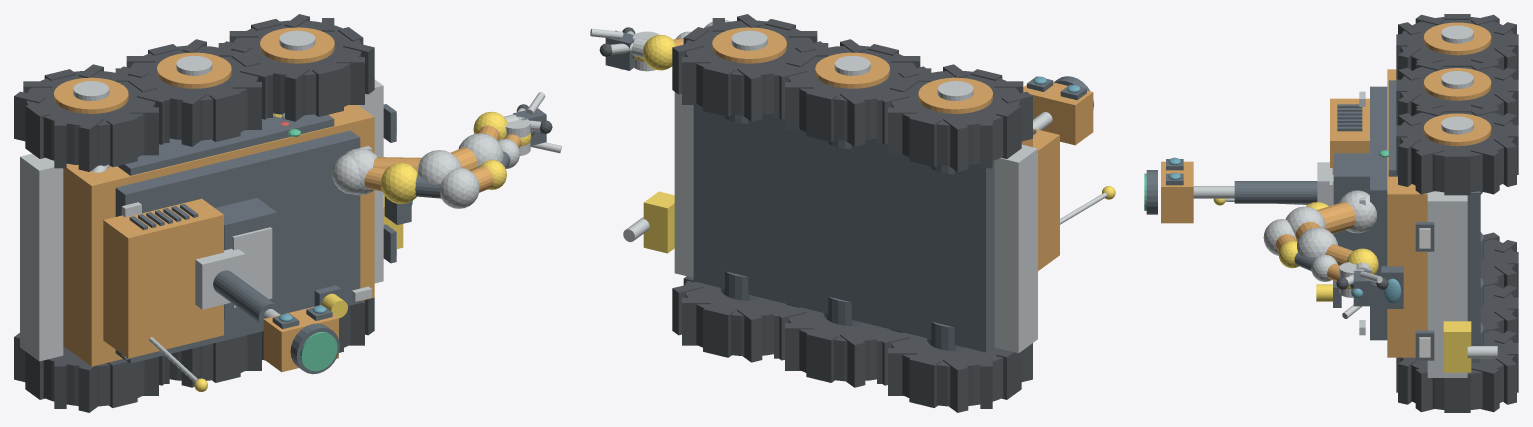
File: riis_rover_full_build.glb
The picture shows the model from 3 angles, left to right: view 1: azimuth 30°, elevation 25°; view 2: azimuth 150°, elevation 25°; view 3: azimuth 270°, elevation 25°; orthographic projection. The views are drawn at different scales.
Parts seen in each view (by area): view 1: Upper equipment deck, Rear battery enclosure, Main sealed armored chassis, Rear bumper, Left wheel 1 rubber tire, Left side armor panel, Left wheel 2 rubber tire, Left wheel 3 rubber tire, Compute module, Right wheel 1 rubber tire, Top access hatch, Pan tilt sensor head (+44 smaller); view 2: Lower impact skid plate, Rear bumper, Left wheel 1 rubber tire, Front bumper, Left wheel 3 rubber tire, Left wheel 2 rubber tire, Right wheel 1 rubber tire, Rear battery enclosure, Right wheel 2 rubber tire, Right wheel 3 rubber tire, Pan tilt sensor head, Front sensor bumper module (+37 smaller); view 3: Main sealed armored chassis, Front bumper, Upper equipment deck, Left wheel 3 rubber tire, Compute module, Lower impact skid plate, Right wheel 3 rubber tire, Sensor mast lower sleeve, Left wheel 1 rubber tire, Left wheel 2 rubber tire, Pan tilt sensor head, Rear battery enclosure (+37 smaller).
Boxes of the visible parts, x1,y1,x2,y2 form: Upper equipment deck: (115, 130, 360, 360); Rear battery enclosure: (103, 198, 223, 358); Main sealed armored chassis: (63, 105, 374, 366); Rear bumper: (20, 153, 63, 361); Left wheel 1 rubber tire: (26, 71, 155, 165); Left side armor panel: (117, 114, 334, 175); Left wheel 2 rubber tire: (129, 45, 258, 140); Left wheel 3 rubber tire: (232, 20, 361, 115); Compute module: (215, 198, 277, 320); Right wheel 1 rubber tire: (43, 346, 144, 406); Top access hatch: (232, 227, 272, 307); Pan tilt sensor head: (263, 305, 338, 372); Lower impact skid plate: (693, 105, 994, 352); Rear bumper: (994, 144, 1037, 353); Left wheel 1 rubber tire: (891, 71, 1020, 165); Front bumper: (674, 92, 693, 277); Left wheel 3 rubber tire: (685, 20, 814, 115); Left wheel 2 rubber tire: (788, 45, 917, 140); Right wheel 1 rubber tire: (891, 332, 1003, 406); Rear battery enclosure: (1033, 128, 1059, 270); Right wheel 2 rubber tire: (788, 307, 899, 381); Right wheel 3 rubber tire: (685, 280, 796, 355); Pan tilt sensor head: (1023, 82, 1093, 145); Front sensor bumper module: (643, 191, 674, 253); Main sealed armored chassis: (1387, 69, 1427, 357); Front bumper: (1427, 191, 1467, 377); Upper equipment deck: (1370, 86, 1387, 340); Left wheel 3 rubber tire: (1400, 108, 1514, 192); Compute module: (1333, 153, 1369, 250); Lower impact skid plate: (1467, 191, 1480, 362); Right wheel 3 rubber tire: (1400, 330, 1514, 409); Sensor mast lower sleeve: (1234, 181, 1317, 203); Left wheel 1 rubber tire: (1400, 17, 1514, 70); Left wheel 2 rubber tire: (1400, 62, 1514, 116); Pan tilt sensor head: (1161, 161, 1193, 223); Rear battery enclosure: (1330, 98, 1369, 234).
Size of what is drawn, in the model's own units: 1.99 by 1.2 by 1.5.
